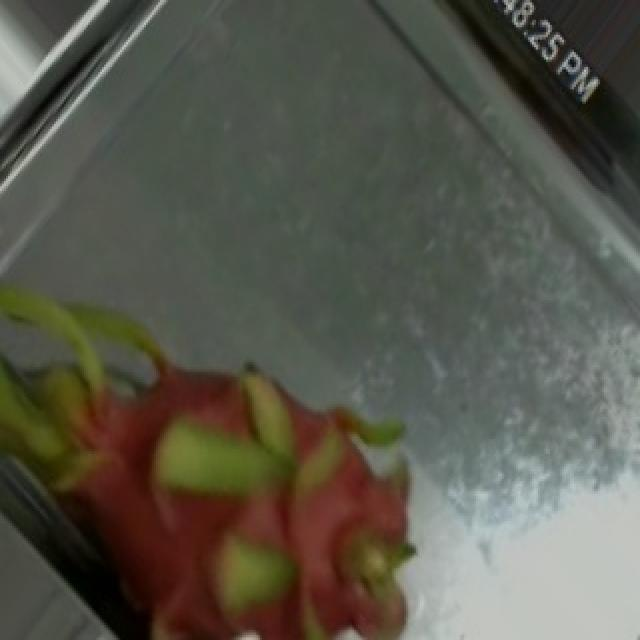fruit: (4, 225, 436, 640)
